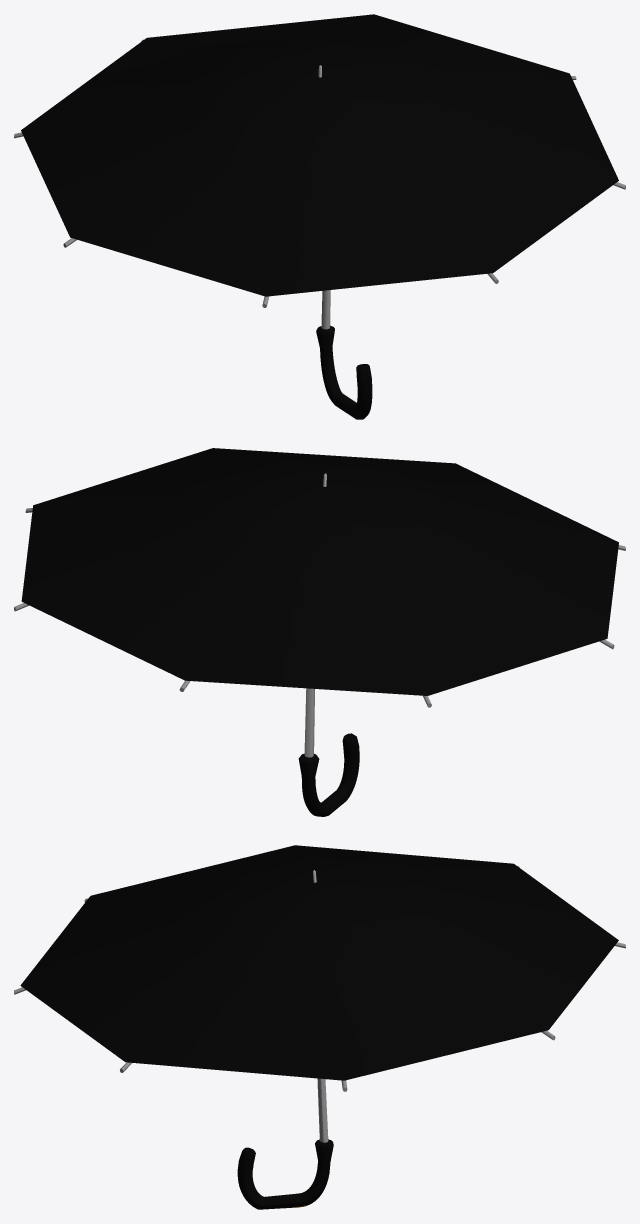
Rendered from SombrillaAmarilla.obj.
3 renders of one model, top to bottom at view 1: azimuth 30°, elevation 25°; view 2: azimuth 150°, elevation 25°; view 3: azimuth 270°, elevation 25°, orthographic. The views are drawn at different scales.
Visible parts, largest first — view 1: UmbrellaOpened; view 2: UmbrellaOpened; view 3: UmbrellaOpened.
Part boxes in pixels (x1,y1,x2,y2): UmbrellaOpened: (14, 14, 625, 419); UmbrellaOpened: (14, 448, 625, 816); UmbrellaOpened: (14, 845, 625, 1209).
Bounding box in the file's own units: 4.48 × 2.69 × 4.48.
4 materials, 2 textured.
